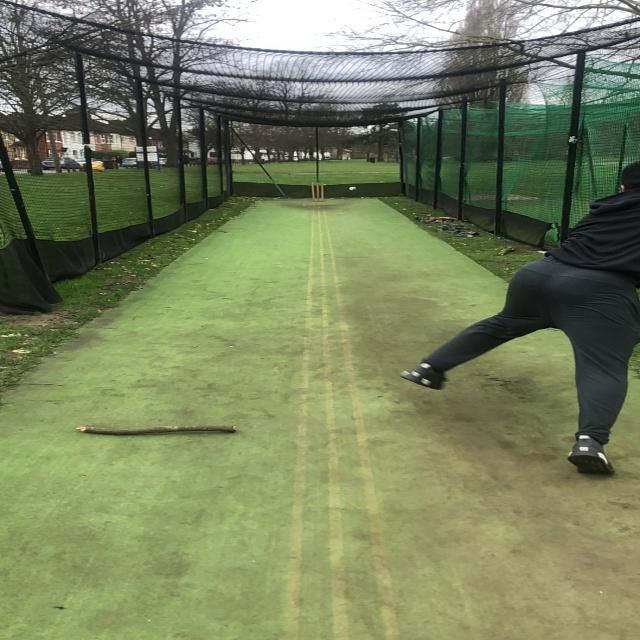ball: (348, 186, 356, 191)
